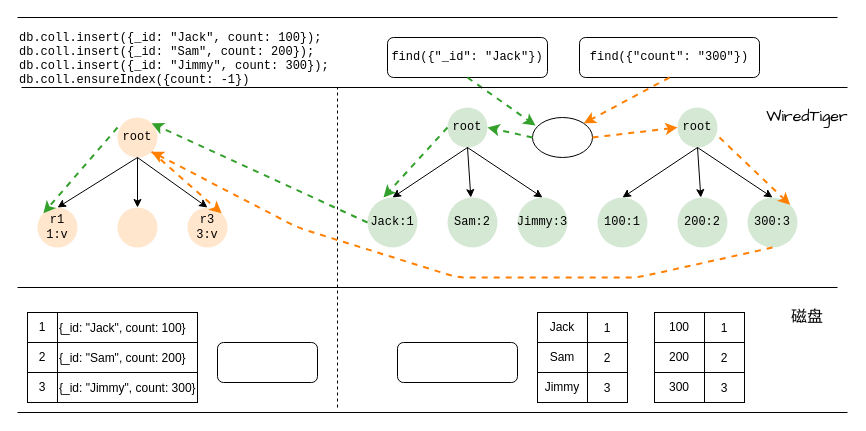
Some shapes in this 866 by 431 pixel diagram are drawn without their labels. The box of each missing label's shape, as (x1, y1, x2, y2) in pixels:
data file: (216, 342, 318, 382)
index file: (396, 342, 518, 382)
KV API: (532, 116, 592, 158)
r2 2:v: (117, 207, 157, 247)
